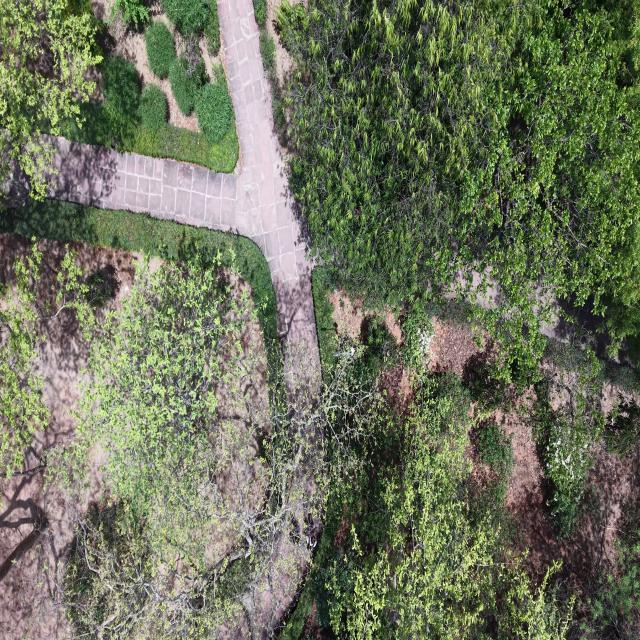DRY_AREA: (50, 0, 319, 386), (51, 0, 319, 382), (51, 0, 319, 381), (0, 240, 144, 639), (218, 0, 319, 381), (466, 387, 639, 597), (0, 310, 102, 639), (481, 387, 639, 594), (492, 410, 639, 593), (89, 0, 199, 131)
PATHWAYS: (51, 0, 319, 381)
VEGETATION_TREE: (0, 0, 639, 639), (8, 203, 636, 639), (64, 263, 575, 639), (63, 264, 565, 637), (279, 0, 639, 383), (48, 202, 312, 637), (283, 336, 638, 639), (59, 254, 324, 638), (61, 259, 265, 638), (306, 374, 569, 639), (78, 263, 263, 568), (0, 200, 281, 370), (0, 201, 281, 370), (0, 0, 238, 199), (319, 377, 494, 638), (463, 336, 638, 539), (63, 503, 245, 639), (525, 340, 638, 538), (0, 239, 92, 479), (0, 0, 101, 199), (62, 58, 238, 172), (531, 342, 605, 536), (146, 2, 233, 145), (145, 0, 230, 144), (65, 504, 150, 637), (0, 246, 48, 478), (575, 503, 639, 639), (61, 56, 140, 151), (359, 306, 433, 375), (134, 124, 238, 173), (601, 230, 639, 362), (254, 0, 286, 143), (471, 418, 514, 520), (463, 342, 514, 414), (102, 56, 140, 149), (162, 0, 220, 54), (61, 103, 123, 149), (312, 267, 337, 376), (195, 75, 233, 143), (401, 305, 433, 374), (169, 56, 206, 114), (605, 395, 639, 458), (475, 422, 513, 477), (359, 316, 396, 372), (162, 0, 214, 36), (145, 20, 176, 78), (138, 83, 167, 131), (85, 270, 117, 308), (259, 13, 275, 79), (112, 0, 149, 28), (204, 2, 220, 55), (254, 0, 266, 25)
